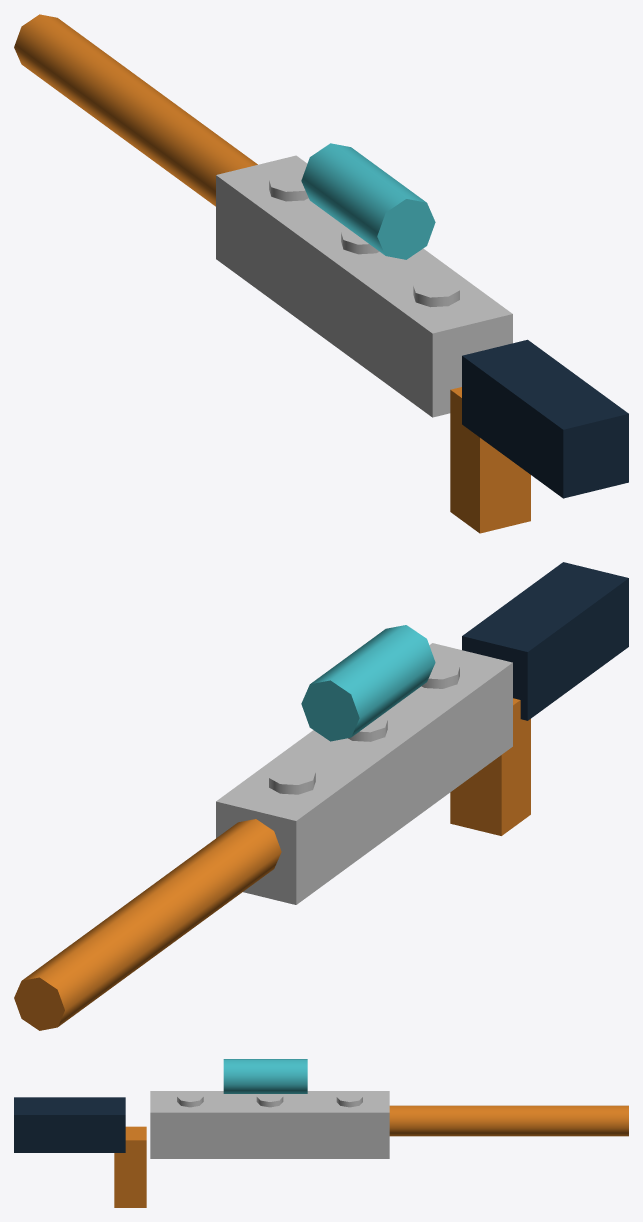
File: LegoSniper.glb
3 renders of one model, top to bottom at view 1: azimuth 30°, elevation 25°; view 2: azimuth 150°, elevation 25°; view 3: azimuth 270°, elevation 25°, orthographic. The views are drawn at different scales.
Parts seen in each view (by area): view 1: LegoSniper; view 2: LegoSniper; view 3: LegoSniper.
Boxes of the visible parts, box(x1,y1,x2,y2) form: LegoSniper: box(14, 14, 628, 533); LegoSniper: box(14, 562, 628, 1030); LegoSniper: box(14, 1059, 628, 1207).
Bounding box in the file's own units: 0.11 × 0.335 × 1.32.
